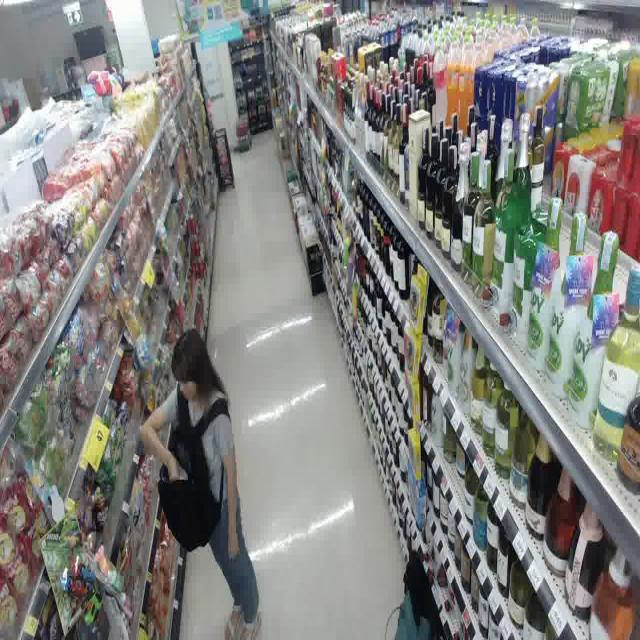shoplifting: (129, 319, 273, 640)
